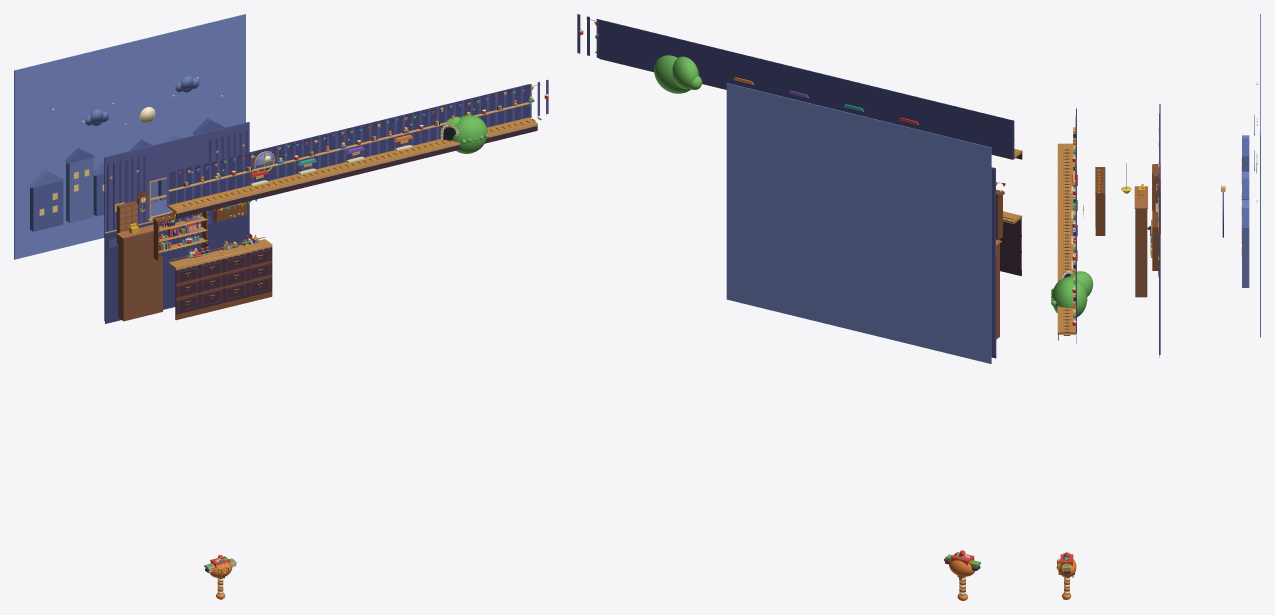
The model's file is set.glb.
3 views of the same model, side by side, from view 1: azimuth 30°, elevation 25°; view 2: azimuth 150°, elevation 25°; view 3: azimuth 270°, elevation 25° (orthographic). The views are drawn at different scales.
Visible parts, largest first — view 1: L3_sky, bonus_back, L2_counter, L2_wainscot, bonus_plank, L2_wall-12_-13, bonus_apron, L2_wall-4.5_7.4, L3_house1, L3_house0, L2_wall4.5_-13, L0_apron (+4 smaller); view 2: L3_sky, bonus_back, L0_apron, L2_wall-12_-13, tunnel_hill, tunnel_mound; view 3: bonus_plank, L2_counter, tunnel_hill, L3_house5, L1_side0, L2_unit, L2_wall4.5_-13, L3_sky.
Boxes of the visible parts, x1,y1,x2,y2 form: L3_sky: (14,14,245,259); bonus_back: (168,84,528,204); L2_counter: (118,231,162,321); L2_wainscot: (105,201,249,323); bonus_plank: (168,117,537,212); L2_wall-12_-13: (104,146,150,320); bonus_apron: (176,126,537,218); L2_wall-4.5_7.4: (150,133,204,180); L3_house1: (66,157,93,222); L3_house0: (30,180,63,231); L2_wall4.5_-13: (204,122,249,163); L0_apron: (175,247,272,319); L3_sky: (726,83,991,363); bonus_back: (599,19,1012,159); L0_apron: (999,218,1021,275); L2_wall-12_-13: (991,167,995,355); tunnel_hill: (654,55,690,93); tunnel_mound: (672,56,698,89); bonus_plank: (1058,143,1075,334); L2_counter: (1135,209,1147,297); tunnel_hill: (1052,276,1087,317); L3_house5: (1242,228,1249,287); L1_side0: (1095,192,1104,235); L2_unit: (1152,212,1158,270); L2_wall4.5_-13: (1159,156,1160,354); L3_sky: (1260,14,1260,337).
Bounding box in the file's own units: 74.43 × 77.89 × 28.18.
